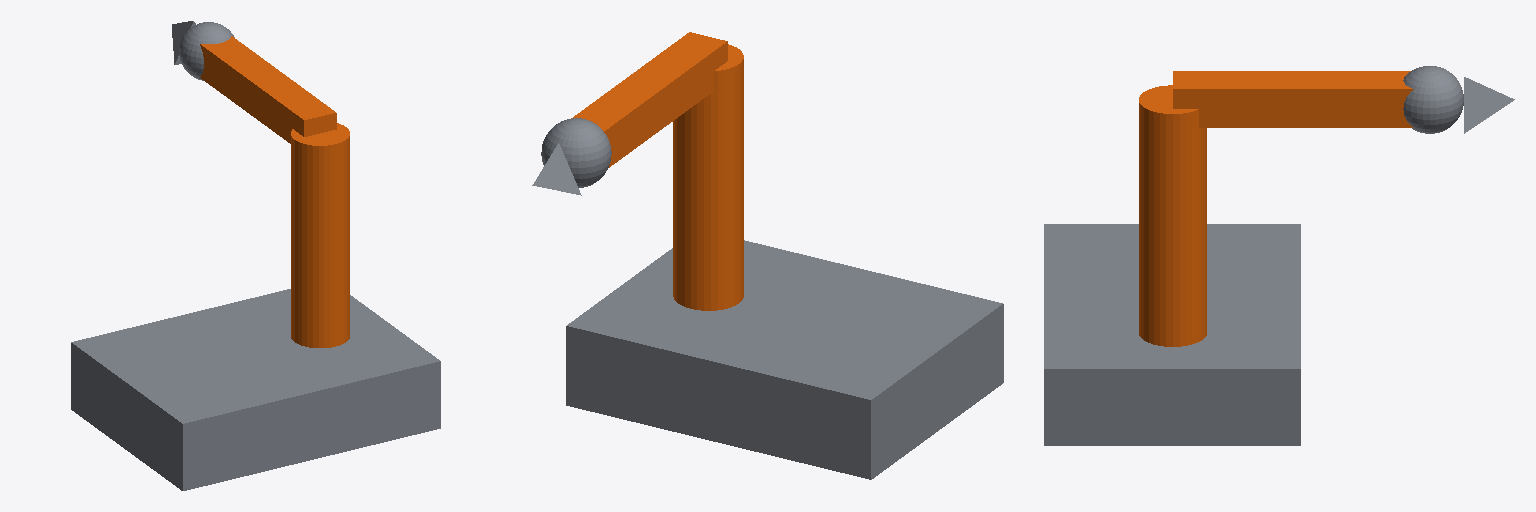
URDF robot description (primitives_arm):
<?xml version="1.0"?>
<!--
  A small test robot for the Lagrange URDF importer: a two-joint arm on a base, built from
  primitives plus one mesh, with rotated and offset joint origins so that the kinematics are
  exercised. Dimensions are arbitrary; it is not a model of any real robot.
-->
<robot name="primitives_arm">
  <material name="steel">
    <color rgba="0.55 0.57 0.60 1"/>
  </material>
  <material name="orange">
    <color rgba="0.90 0.45 0.10 1"/>
  </material>

  <link name="base">
    <visual>
      <origin xyz="0 0 0.05"/>
      <geometry>
        <box size="0.40 0.30 0.10"/>
      </geometry>
      <material name="steel"/>
    </visual>
  </link>

  <link name="shoulder">
    <visual>
      <origin xyz="0 0 0.15"/>
      <geometry>
        <cylinder radius="0.04" length="0.30"/>
      </geometry>
      <material name="orange"/>
    </visual>
  </link>
  <joint name="base_to_shoulder" type="revolute">
    <parent link="base"/>
    <child link="shoulder"/>
    <origin xyz="0.10 0 0.10"/>
    <axis xyz="0 0 1"/>
    <limit lower="-1.57" upper="1.57" effort="10" velocity="1"/>
  </joint>

  <link name="forearm">
    <visual>
      <origin xyz="0.15 0 0"/>
      <geometry>
        <box size="0.30 0.05 0.05"/>
      </geometry>
      <material name="orange"/>
    </visual>
    <visual>
      <origin xyz="0.30 0 0"/>
      <geometry>
        <sphere radius="0.04"/>
      </geometry>
      <material name="steel"/>
    </visual>
  </link>
  <!-- Rotated a quarter turn about Z: the forearm's X axis points along the base's Y axis. -->
  <joint name="shoulder_to_forearm" type="continuous">
    <parent link="shoulder"/>
    <child link="forearm"/>
    <origin xyz="0 0 0.30" rpy="0 0 1.5707963267948966"/>
    <axis xyz="0 1 0"/>
  </joint>

  <link name="tool">
    <visual>
      <geometry>
        <mesh filename="tool.stl" scale="0.001 0.001 0.001"/>
      </geometry>
      <material name="steel"/>
    </visual>
  </link>
  <joint name="forearm_to_tool" type="fixed">
    <parent link="forearm"/>
    <child link="tool"/>
    <origin xyz="0.34 0 0"/>
  </joint>
</robot>

--- Render facts (derived) ---
3 views of the same robot in one strip: view 1: azimuth 30°, elevation 25°; view 2: azimuth 150°, elevation 25°; view 3: azimuth 270°, elevation 25° (orthographic).
Robot: primitives_arm — 4 links, 3 joints (1 revolute, 1 continuous, 1 fixed); root link base; default pose: all joints at 0.
Visible links, largest first — view 1: base, shoulder, forearm; view 2: base, shoulder, forearm, tool; view 3: base, shoulder, forearm, tool.
Link boxes in pixels (x1,y1,x2,y2): base: [71, 289, 440, 490]; shoulder: [291, 123, 349, 347]; forearm: [179, 22, 336, 143]; base: [566, 240, 1003, 479]; shoulder: [673, 44, 743, 310]; forearm: [541, 32, 727, 187]; tool: [532, 143, 581, 195]; base: [1044, 224, 1300, 445]; shoulder: [1139, 85, 1206, 346]; forearm: [1173, 66, 1463, 133]; tool: [1464, 77, 1514, 133].
Bounding box of the posed robot: 0.4 × 0.55 × 0.44 m (x, y, z).
1 mesh visuals loaded from 1 distinct referenced files (1 ASCII STL).
